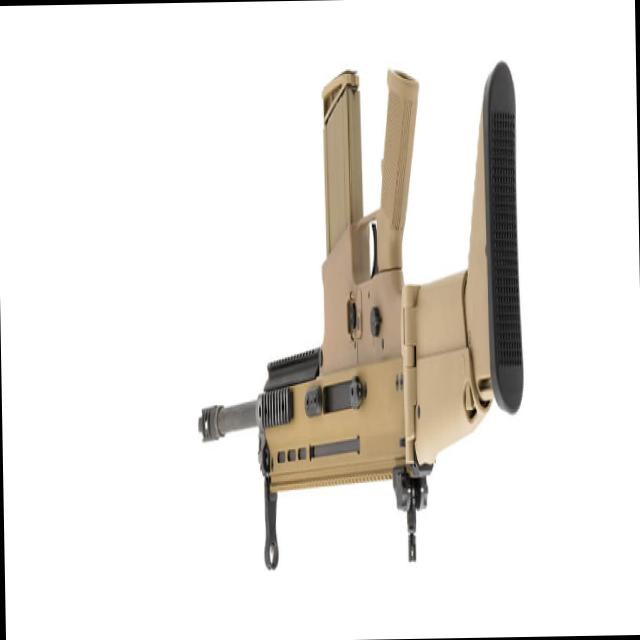Gun: (184, 34, 540, 546)
